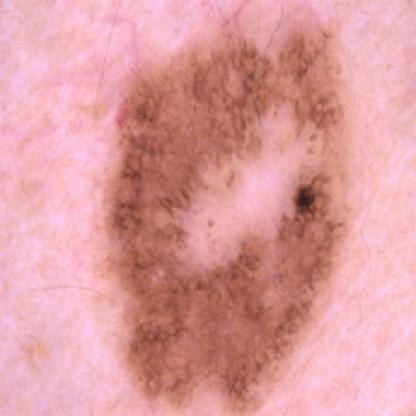benign: (111, 28, 355, 399)
